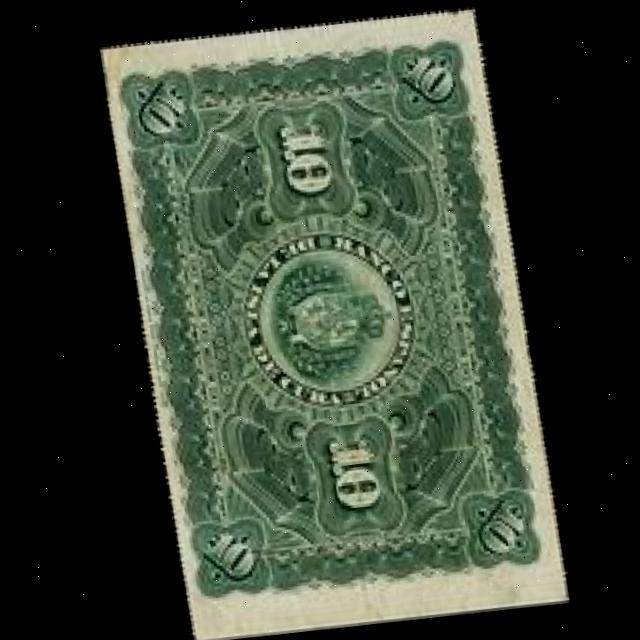banknote: (81, 1, 578, 640)
